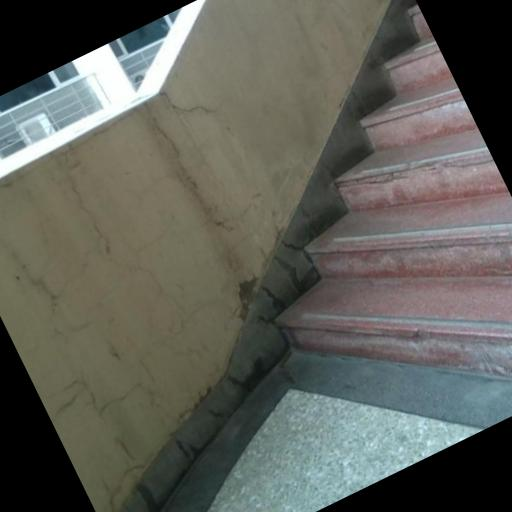stairs: (280, 7, 511, 375)
